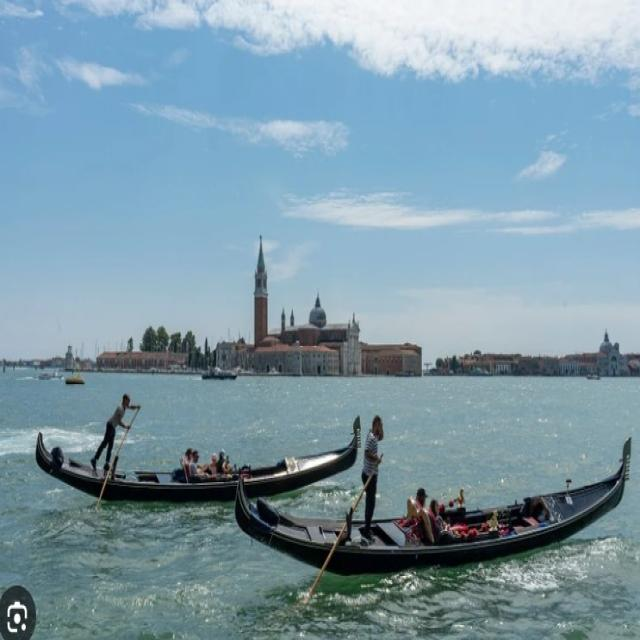boat: (230, 433, 640, 582), (22, 380, 382, 511)
